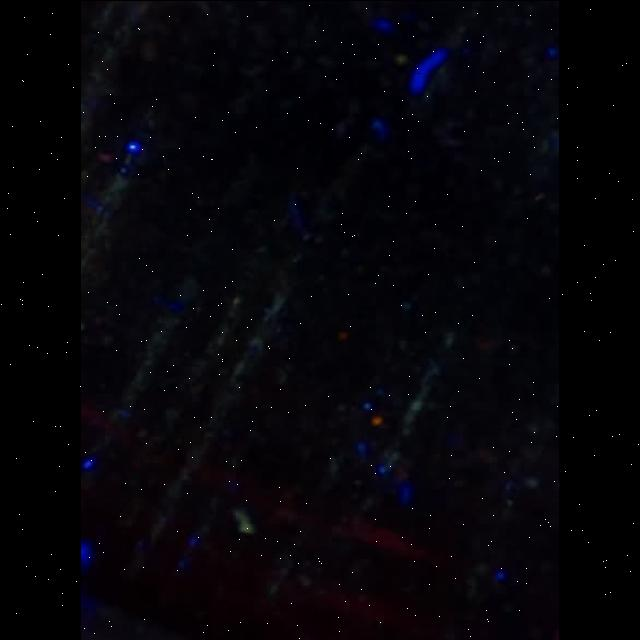microbeads: (229, 506, 261, 536)
